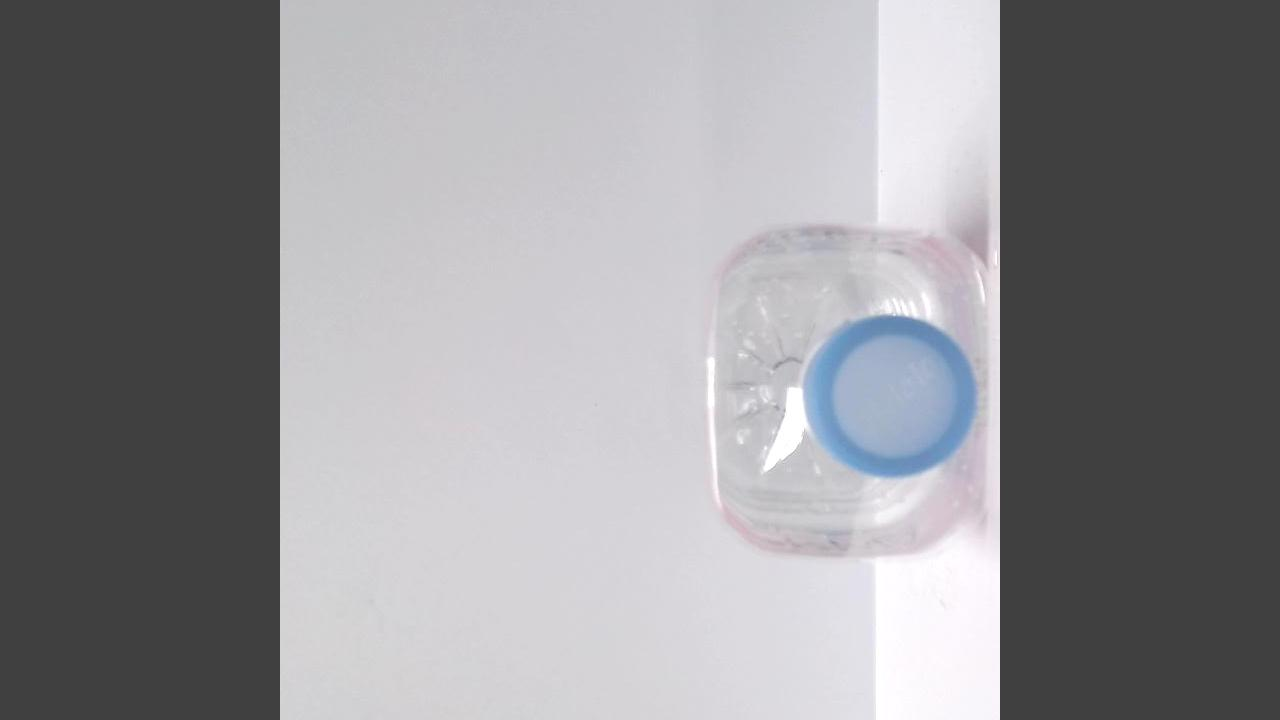bottle: (699, 213, 1000, 572)
